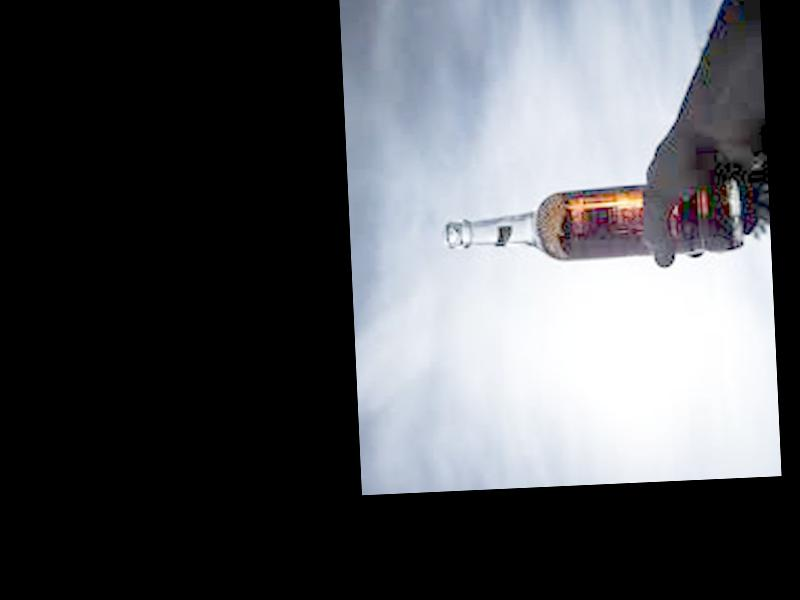Beer: (442, 180, 739, 262)
